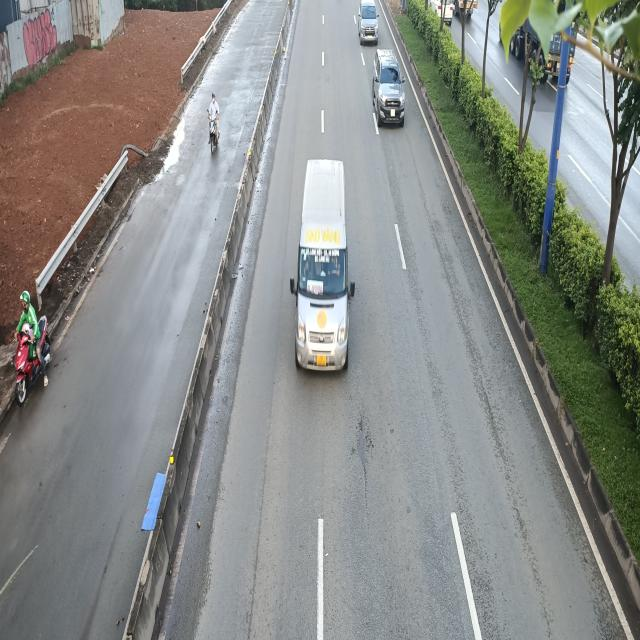car: (371, 47, 403, 126), (358, 1, 378, 45)
van: (289, 164, 355, 376)
